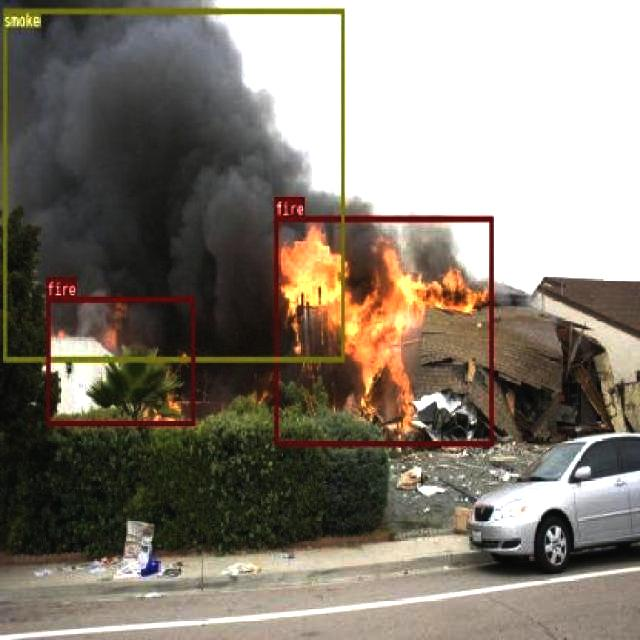fire: (274, 217, 492, 446), (46, 296, 194, 424)
smoke: (2, 8, 344, 360)
